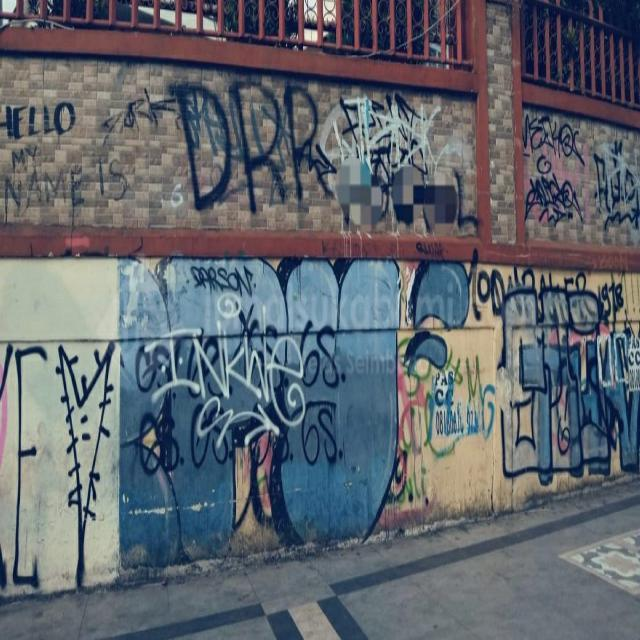-: (121, 258, 401, 564), (135, 324, 345, 474), (500, 285, 640, 478), (174, 82, 336, 211), (340, 92, 480, 226), (58, 342, 116, 584), (1, 340, 42, 590), (470, 255, 628, 318), (403, 372, 495, 454), (410, 258, 470, 336), (595, 139, 640, 232), (188, 262, 255, 316), (524, 174, 584, 233), (5, 170, 86, 212), (104, 88, 174, 136), (524, 112, 584, 168), (0, 100, 76, 142), (404, 330, 450, 375), (95, 154, 128, 200), (12, 146, 38, 170), (537, 156, 552, 177)
